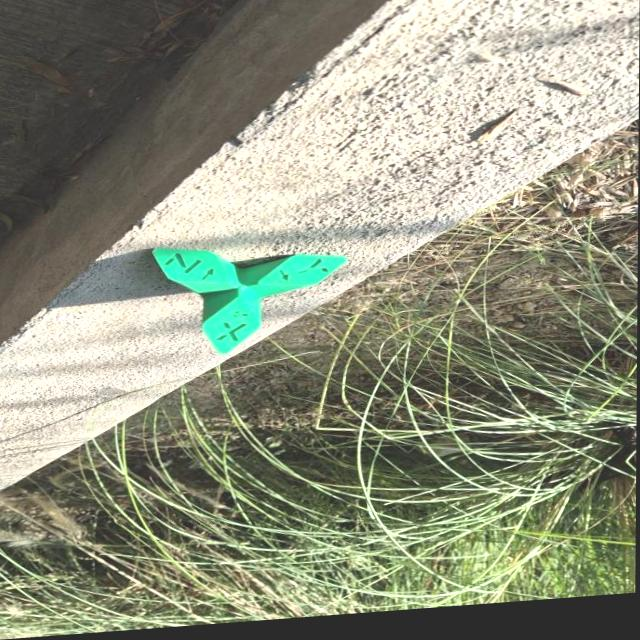eje: (147, 231, 350, 361)
